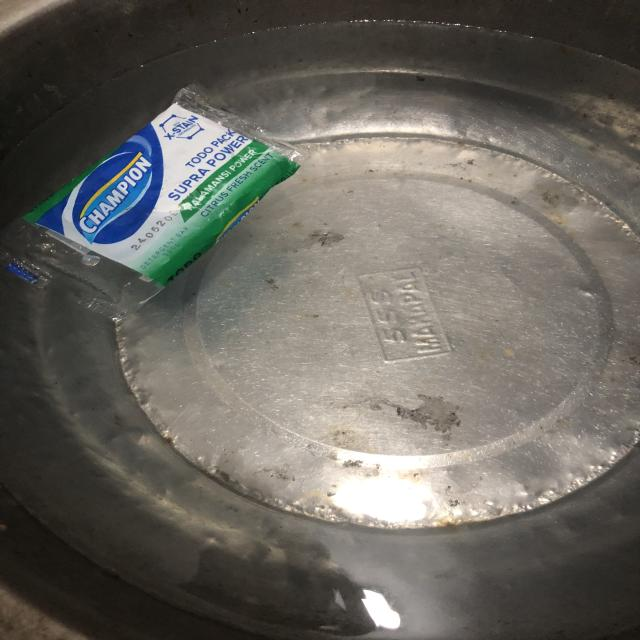Plastic Wrapper: (4, 86, 300, 331)
